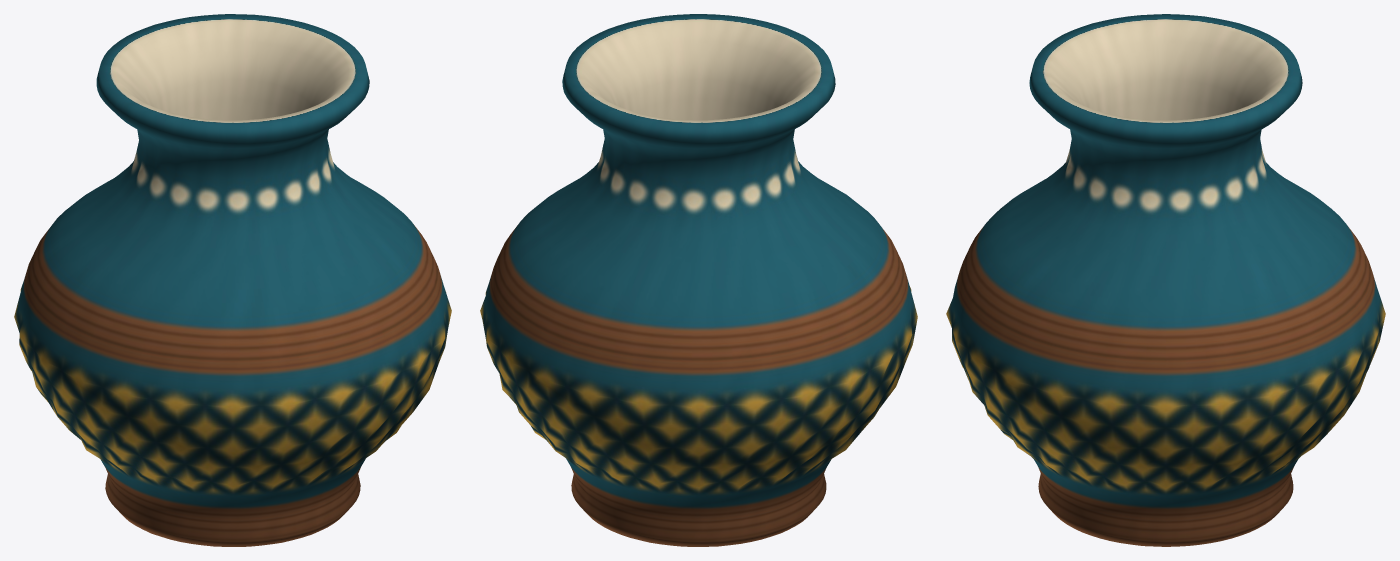
File: vase_optimized.glb
3 renders of one model, left to right at view 1: azimuth 30°, elevation 25°; view 2: azimuth 150°, elevation 25°; view 3: azimuth 270°, elevation 25°, orthographic.
Parts seen in each view (by area): view 1: vase_optimized; view 2: vase_optimized; view 3: vase_optimized.
Boxes of the visible parts, x1,y1,x2,y2 form: vase_optimized: (14,14,451,546); vase_optimized: (480,14,917,546); vase_optimized: (946,14,1385,546).
Bounding box in the file's own units: 1.81 × 1.94 × 1.81.
Materials: 1 (1 with a texture image).
